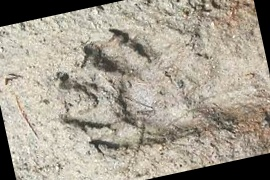fox: (61, 56, 151, 143)
